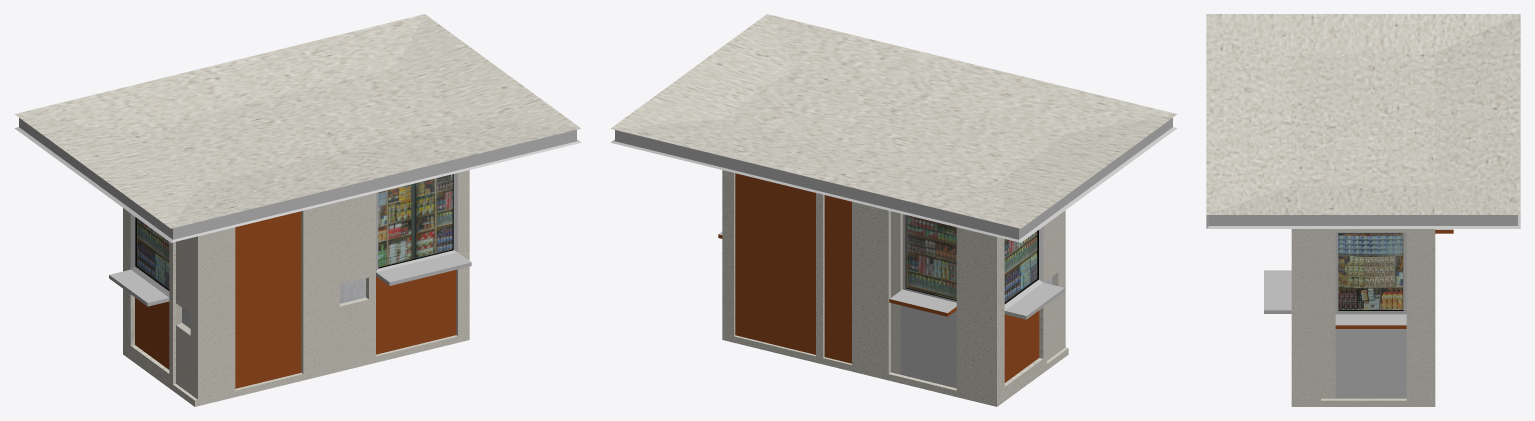
The model's file is quiosco.fbx.
The picture shows the model from 3 angles, left to right: view 1: azimuth 30°, elevation 25°; view 2: azimuth 150°, elevation 25°; view 3: azimuth 270°, elevation 25°; orthographic projection.
Parts seen in each view (by area): view 1: Cube; view 2: Cube; view 3: Cube.
Part boxes in pixels (left/top/right/bottom): Cube: left=14, top=14, right=581, bottom=406; Cube: left=610, top=14, right=1177, bottom=406; Cube: left=1206, top=14, right=1520, bottom=406.
Bounding box in the file's own units: 3324 × 1744 × 2196.
